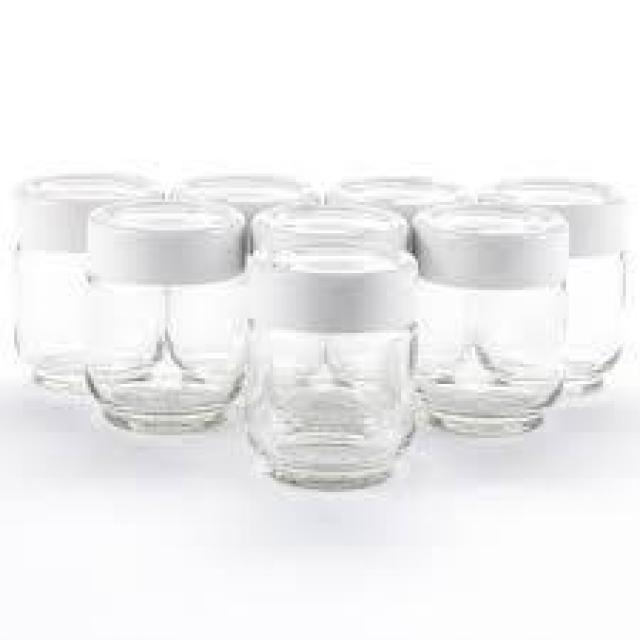non-organic waste: (246, 202, 422, 498)
